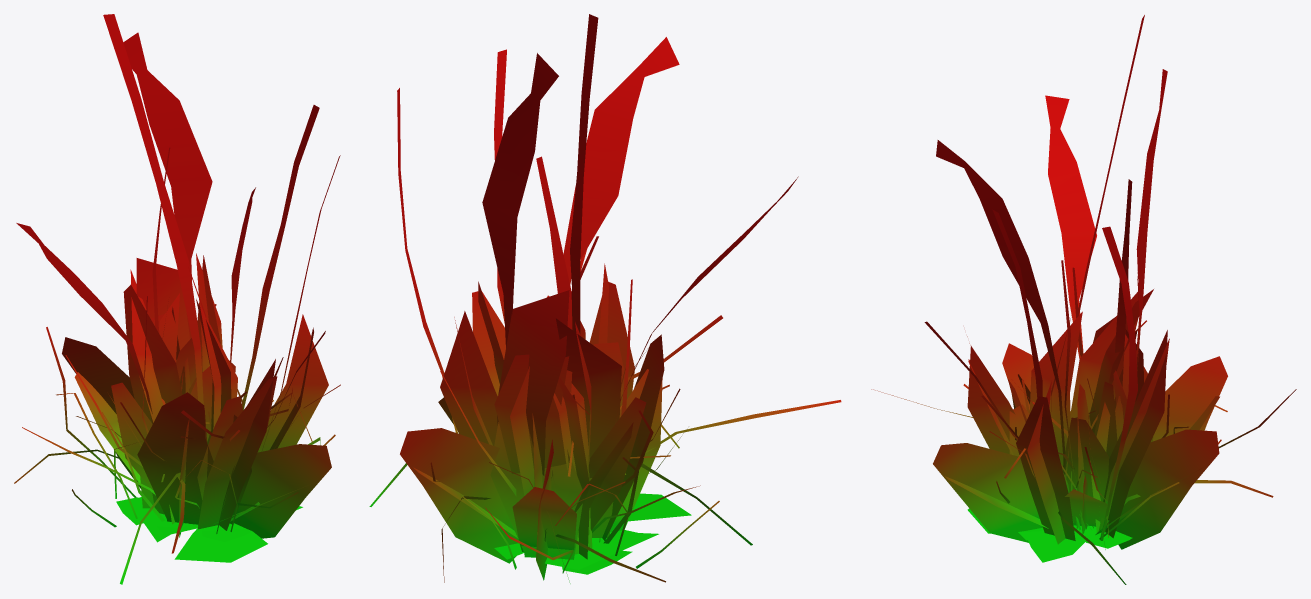
The model's file is Var1_LOD1.fbx.
3 renders of one model, left to right at view 1: azimuth 30°, elevation 25°; view 2: azimuth 150°, elevation 25°; view 3: azimuth 270°, elevation 25°, orthographic. The views are drawn at different scales.
Visible parts, largest first — view 1: _2296_Var1_LOD1; view 2: _2296_Var1_LOD1; view 3: _2296_Var1_LOD1.
Boxes of the visible parts, <box> form: _2296_Var1_LOD1: <box>14,14,340,584</box>; _2296_Var1_LOD1: <box>369,14,841,583</box>; _2296_Var1_LOD1: <box>871,15,1296,584</box>.
Bounding box in the file's own units: 42.29 × 61.44 × 47.8.
